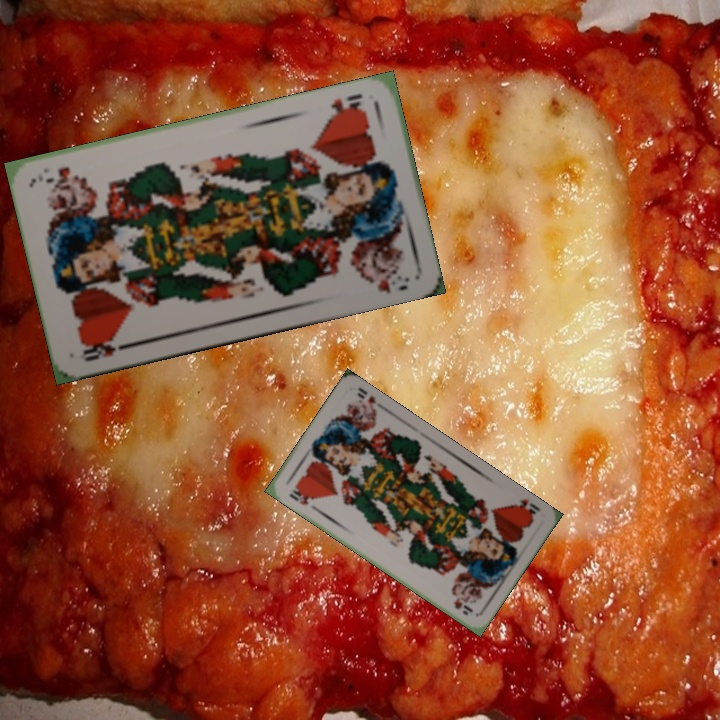HO: (79, 335, 133, 364), (322, 89, 365, 121), (507, 495, 539, 522), (285, 483, 316, 508)
